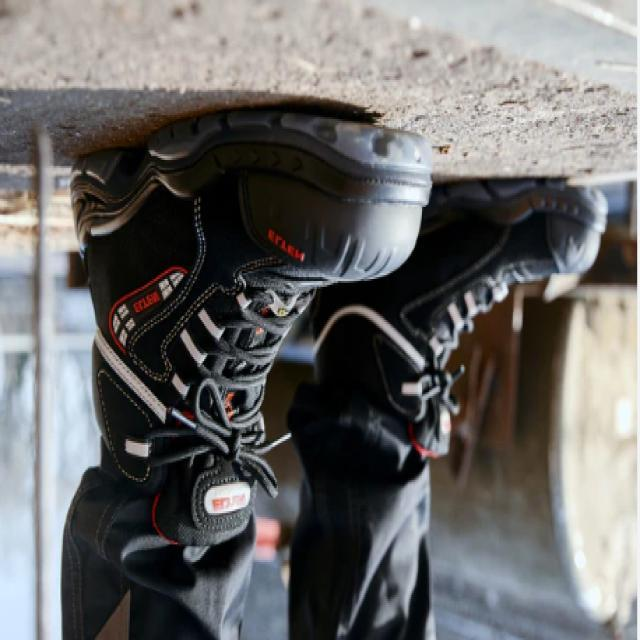shoes: (65, 97, 613, 557)
